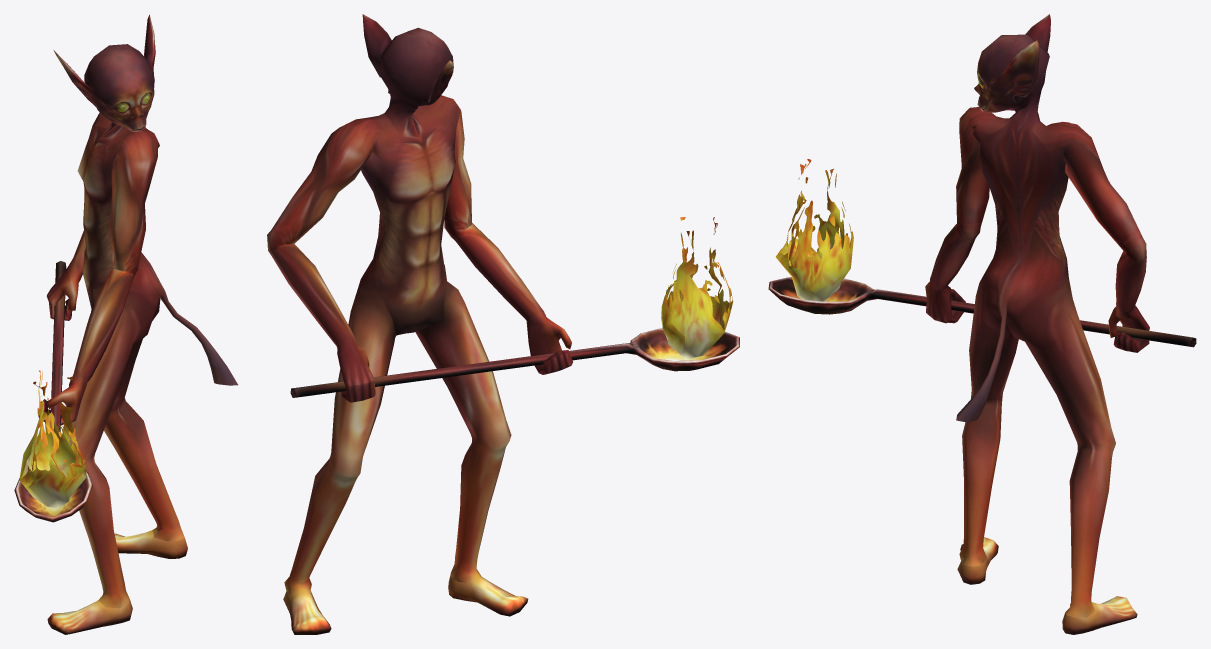
File: Ukobach.fbx
3 renders of one model, left to right at view 1: azimuth 30°, elevation 25°; view 2: azimuth 150°, elevation 25°; view 3: azimuth 270°, elevation 25°, orthographic. The views are drawn at different scales.
Parts seen in each view (by area): view 1: Body, Head, Effect, Spoon; view 2: Body, Head, Spoon, Effect; view 3: Body, Head, Effect, Spoon.
Boxes of the visible parts, bbox=[...] form: Body: bbox=[38, 112, 184, 608]; Head: bbox=[47, 14, 237, 634]; Effect: bbox=[19, 370, 86, 508]; Spoon: bbox=[14, 261, 92, 522]; Body: bbox=[267, 95, 572, 595]; Head: bbox=[283, 14, 528, 634]; Spoon: bbox=[290, 328, 739, 397]; Effect: bbox=[661, 217, 733, 360]; Body: bbox=[925, 107, 1149, 617]; Head: bbox=[956, 14, 1137, 634]; Effect: bbox=[776, 159, 853, 301]; Spoon: bbox=[768, 277, 1196, 347].
Size of the model in its own units: 891 by 1633 by 1110.
Materials: 4 (4 with a texture image).
